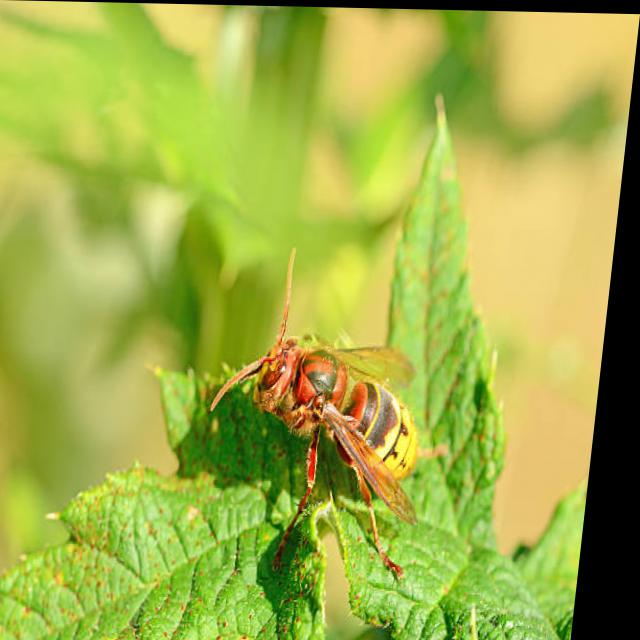Vespa Crabro: (187, 260, 494, 592)
